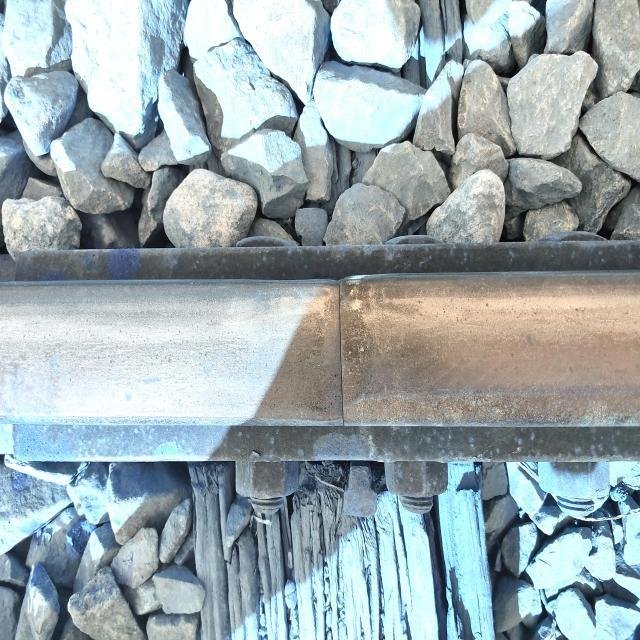Good Fasteners: (343, 462, 377, 517), (295, 208, 328, 246)
Good Joint: (0, 239, 633, 534)
